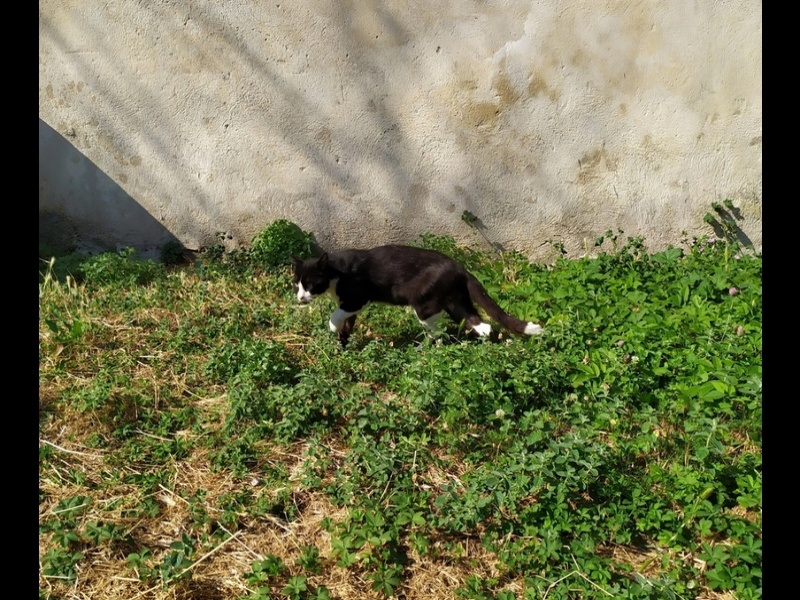cat: (287, 248, 544, 343)
